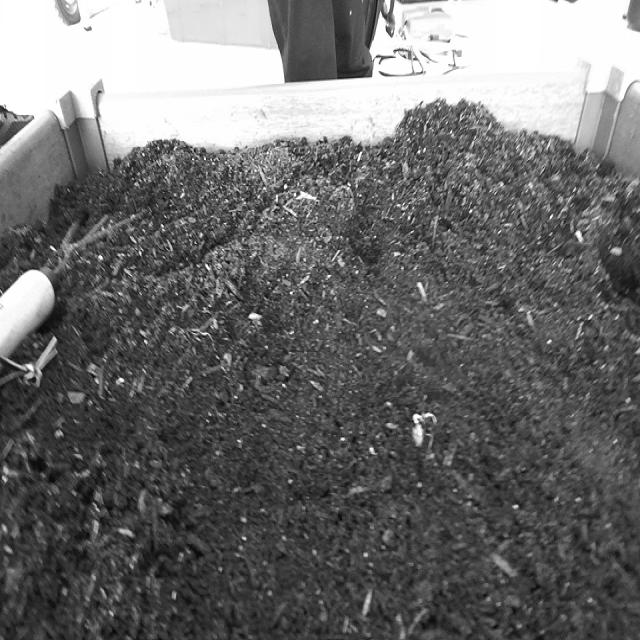Unhealthy: (408, 397, 445, 455)
